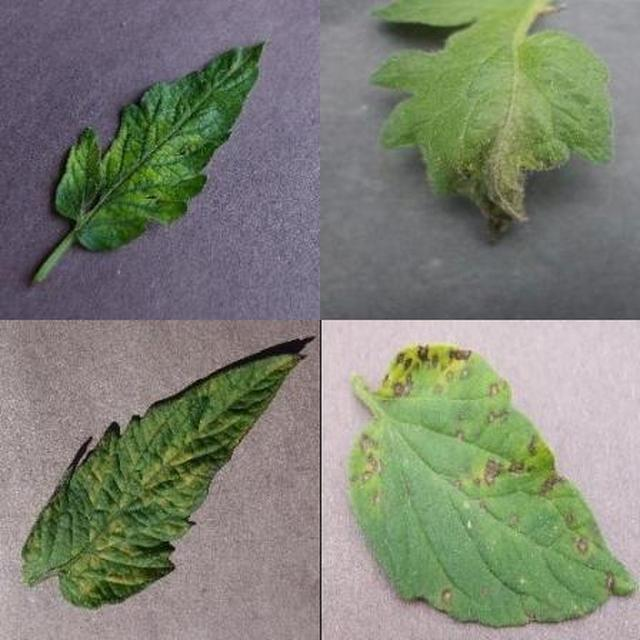Mosaic Virus Leaf: (230, 177, 640, 640)
